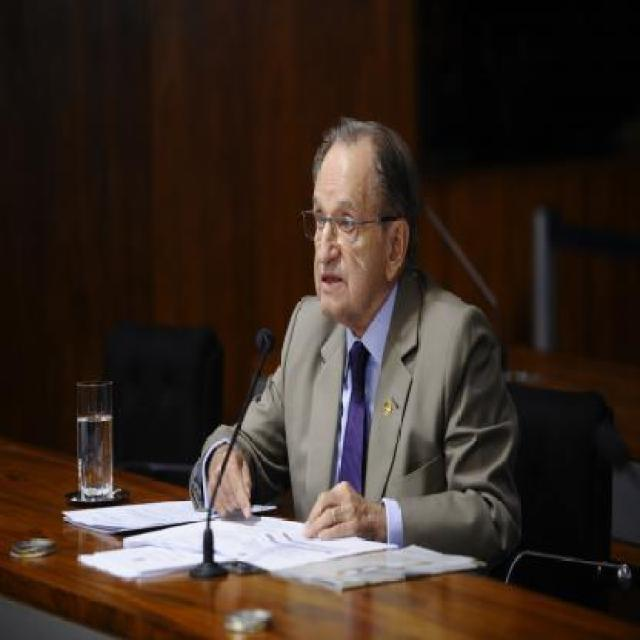Person: (208, 116, 517, 584)
